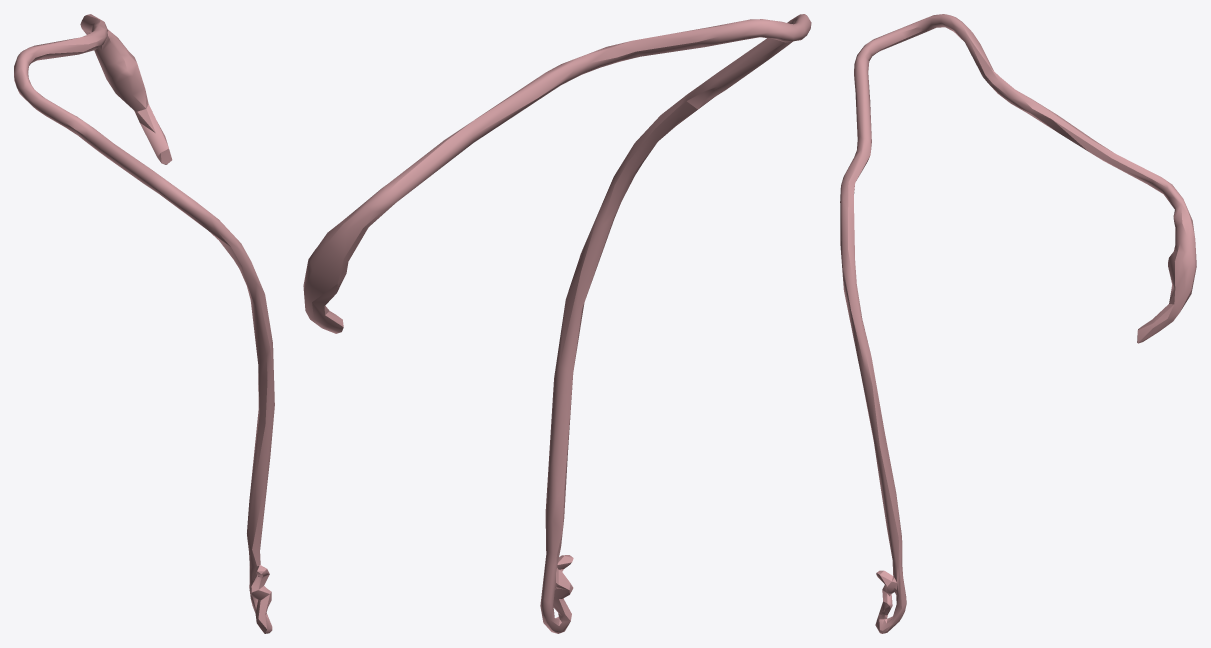
Rendered from fma19235_fj3140.glb.
3 views of the same model, side by side, from view 1: azimuth 30°, elevation 25°; view 2: azimuth 150°, elevation 25°; view 3: azimuth 270°, elevation 25° (orthographic). The views are drawn at different scales.
Visible parts, largest first — view 1: FMA19235_FJ3140; view 2: FMA19235_FJ3140; view 3: FMA19235_FJ3140.
Part boxes in pixels (x1=…): FMA19235_FJ3140: x1=14, y1=14, x2=274, y2=633; FMA19235_FJ3140: x1=303, y1=14, x2=811, y2=633; FMA19235_FJ3140: x1=840, y1=14, x2=1196, y2=633.
Bounding box in the file's own units: 0.0802 × 0.1664 × 0.1015.
